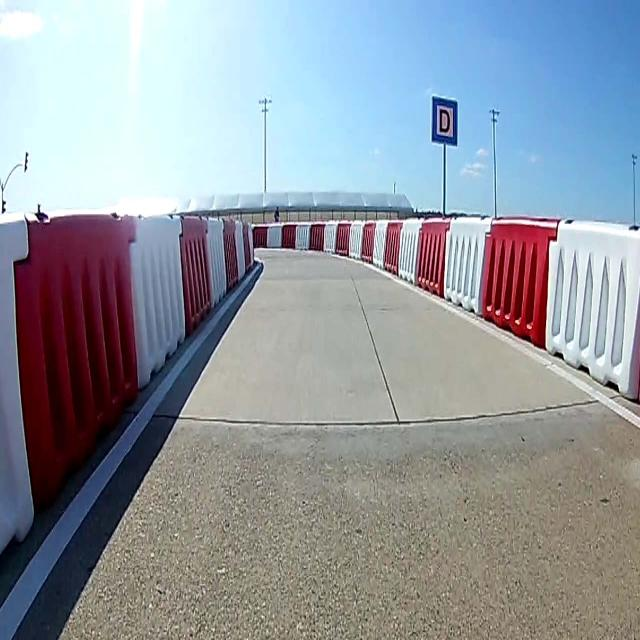durak: (432, 97, 458, 147)
